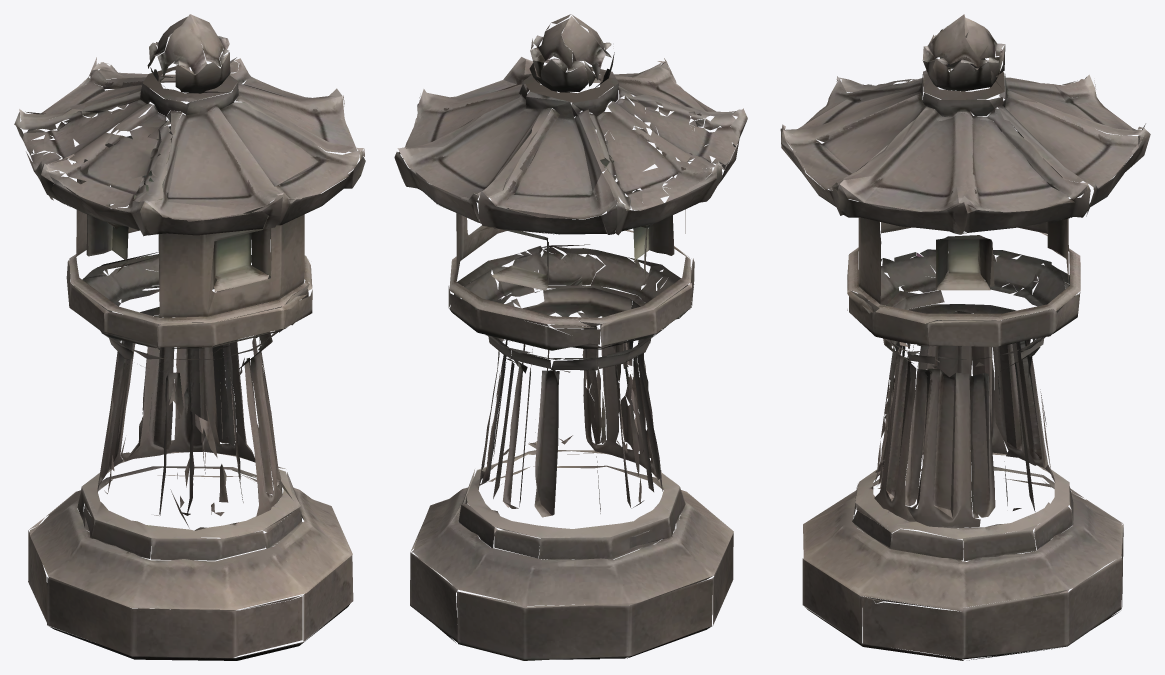
File: lantern.glb
The picture shows the model from 3 angles, left to right: view 1: azimuth 30°, elevation 25°; view 2: azimuth 150°, elevation 25°; view 3: azimuth 270°, elevation 25°; orthographic projection.
Parts seen in each view (by area): view 1: Prop_lantern; view 2: Prop_lantern; view 3: Prop_lantern.
Part boxes in pixels (x1,y1,x2,y2): Prop_lantern: [14, 14, 365, 660]; Prop_lantern: [394, 14, 747, 660]; Prop_lantern: [780, 14, 1150, 660].
Size of the model in its own units: 1.2 by 2.2 by 1.28.
Materials: 1 (1 with a texture image).
